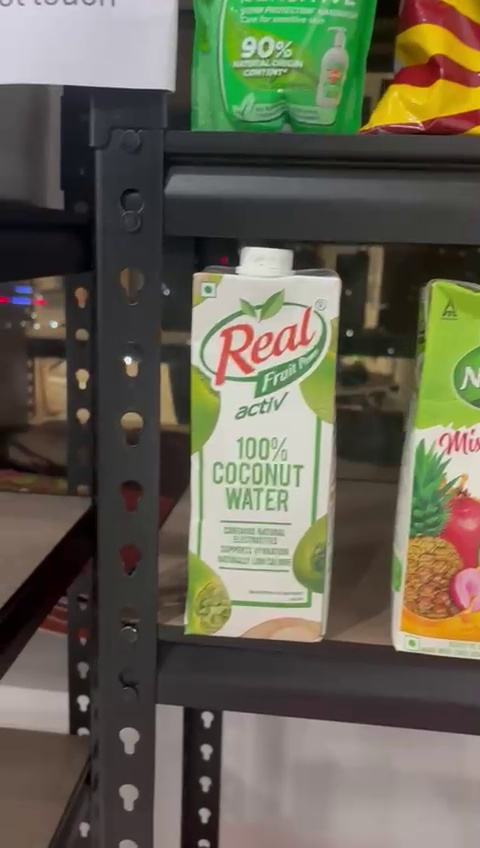Coconut water: (184, 252, 340, 650)
